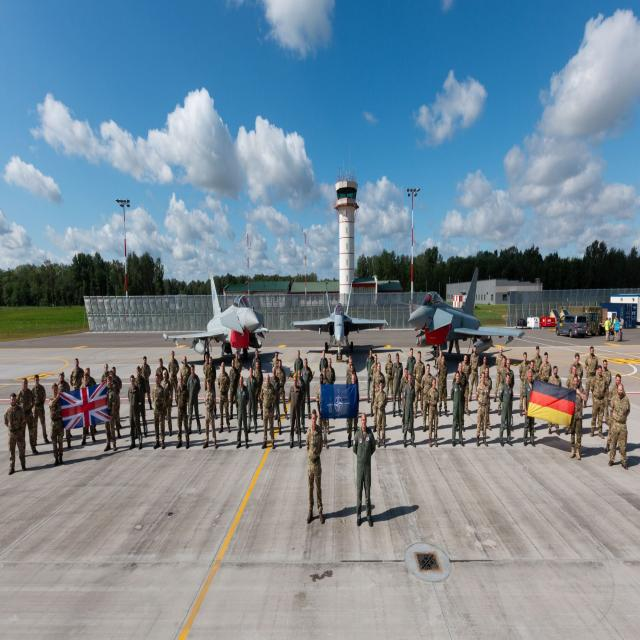MIL_Plane: (408, 266, 524, 366), (163, 271, 269, 362), (292, 279, 386, 362)
